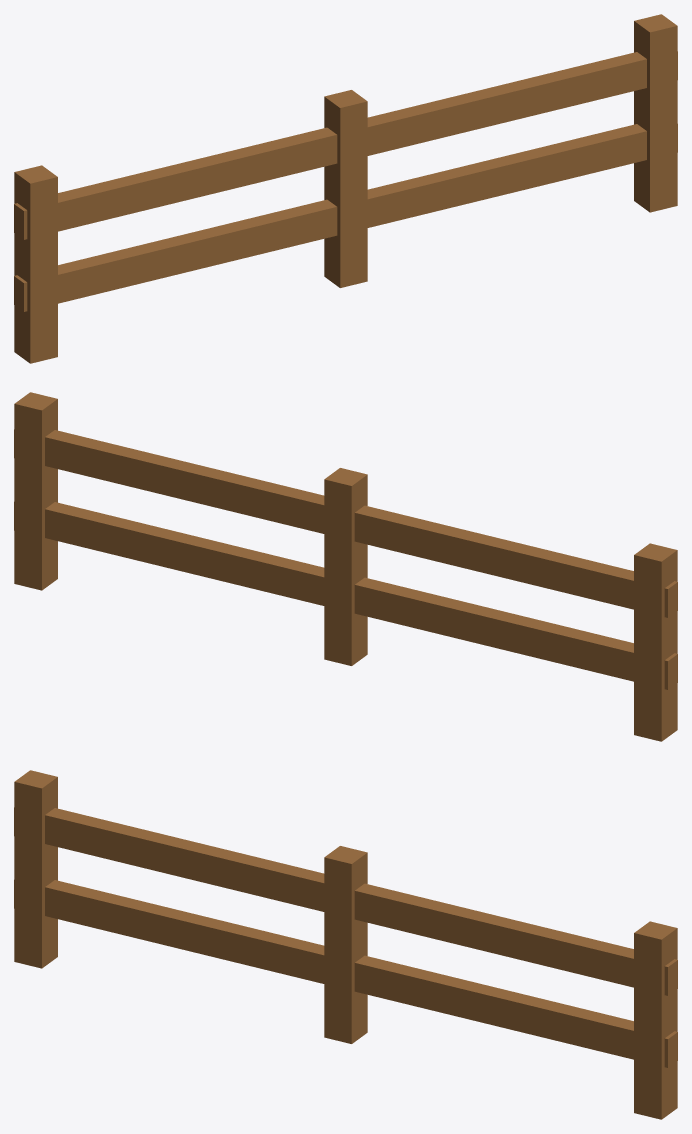
Rendered from fence.glb.
3 views of the same model, one above another, from view 1: azimuth 30°, elevation 25°; view 2: azimuth 150°, elevation 25°; view 3: azimuth 330°, elevation 25° (orthographic).
Visible parts, largest first — view 1: fence; view 2: fence; view 3: fence.
Part boxes in pixels (<box>): fence: <box>14,14,677,363</box>; fence: <box>14,392,677,741</box>; fence: <box>14,770,677,1119</box>.
Bounding box in the file's own units: 1.9 × 0.5 × 0.08.
Materials: 1 (1 with a texture image).
